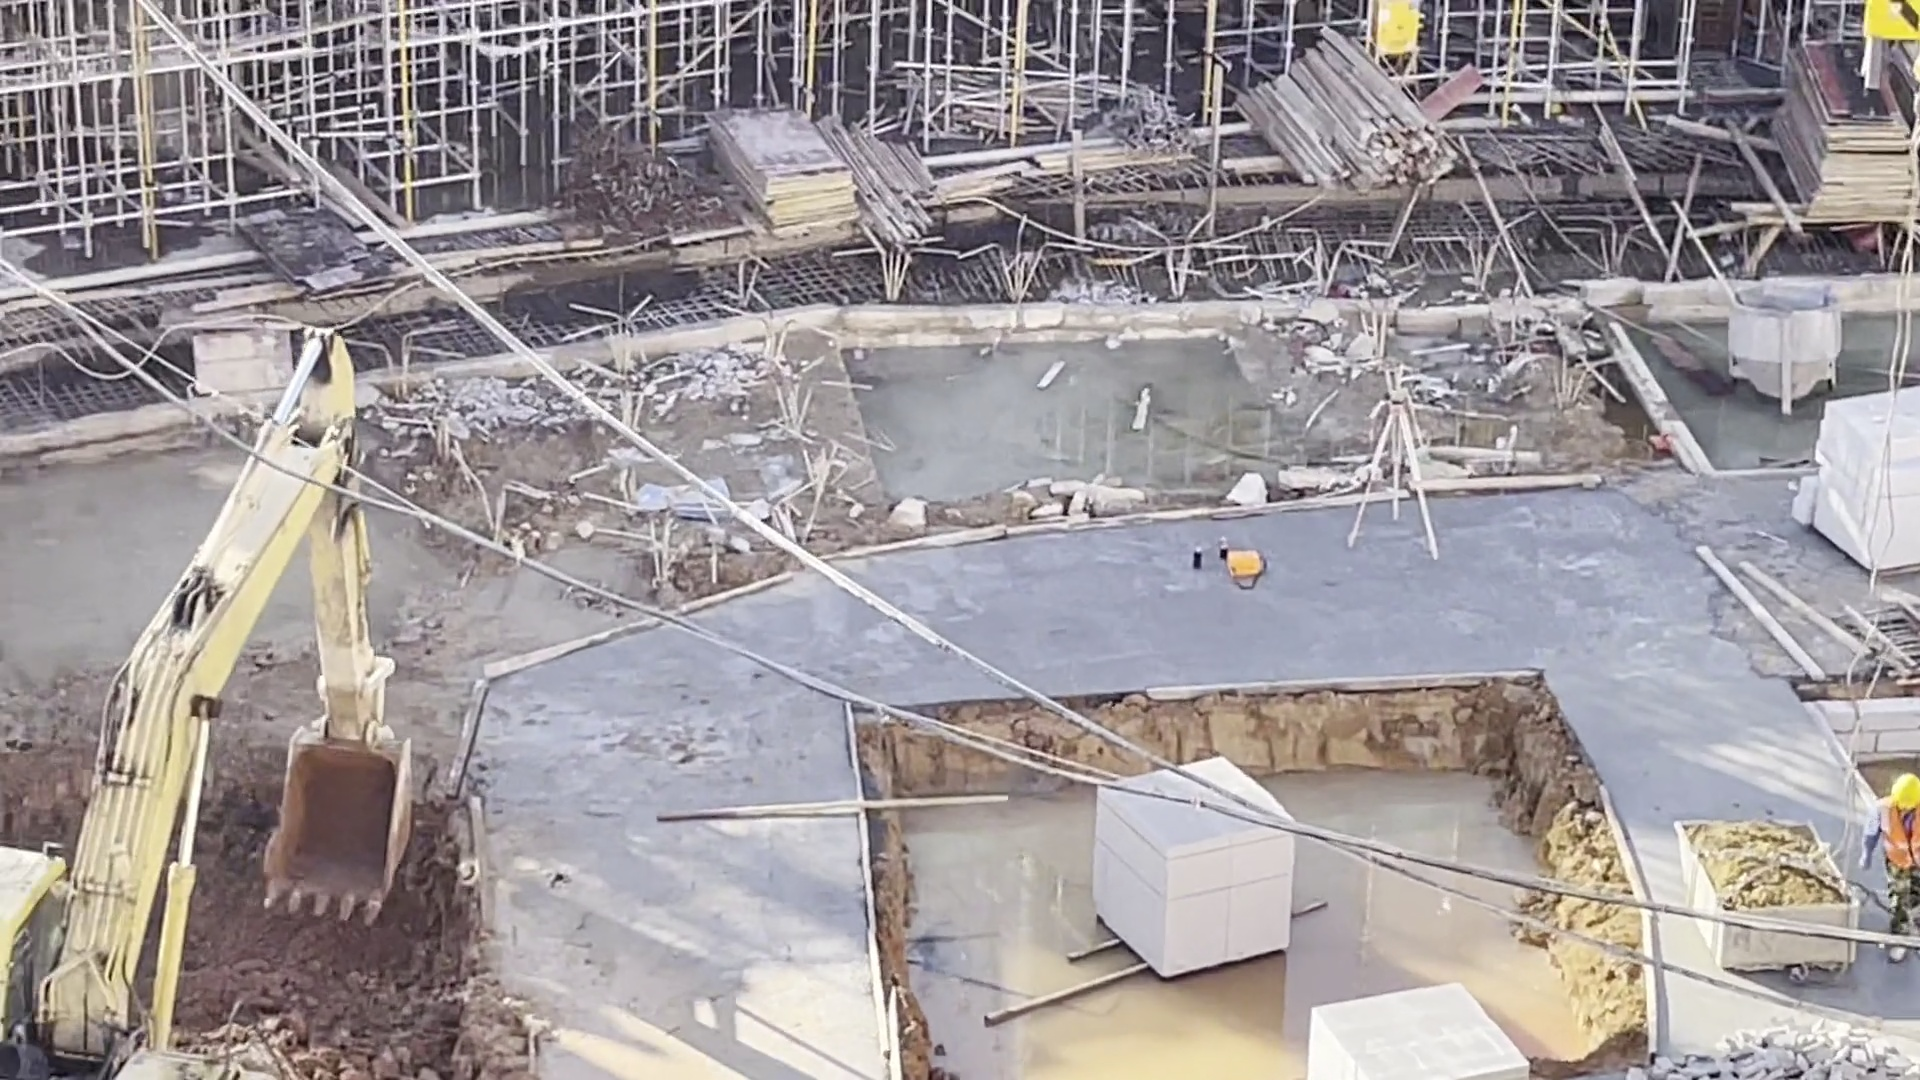board: (1763, 38, 1917, 231), (701, 98, 864, 243)
brick: (1091, 794, 1302, 989), (1795, 385, 1920, 589), (1302, 976, 1527, 1080)
ebox: (1370, 8, 1421, 69)
helmet: (1884, 772, 1920, 809)
hopper: (1667, 816, 1841, 923), (1728, 282, 1847, 413)
person: (1856, 769, 1920, 958)
vest: (1878, 808, 1920, 875)
wood: (1230, 26, 1459, 205)
